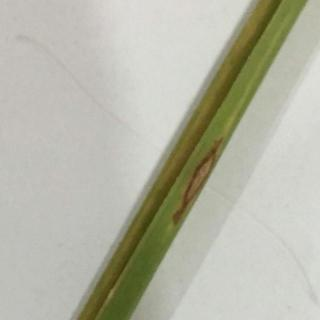Blast: (170, 140, 229, 230)
